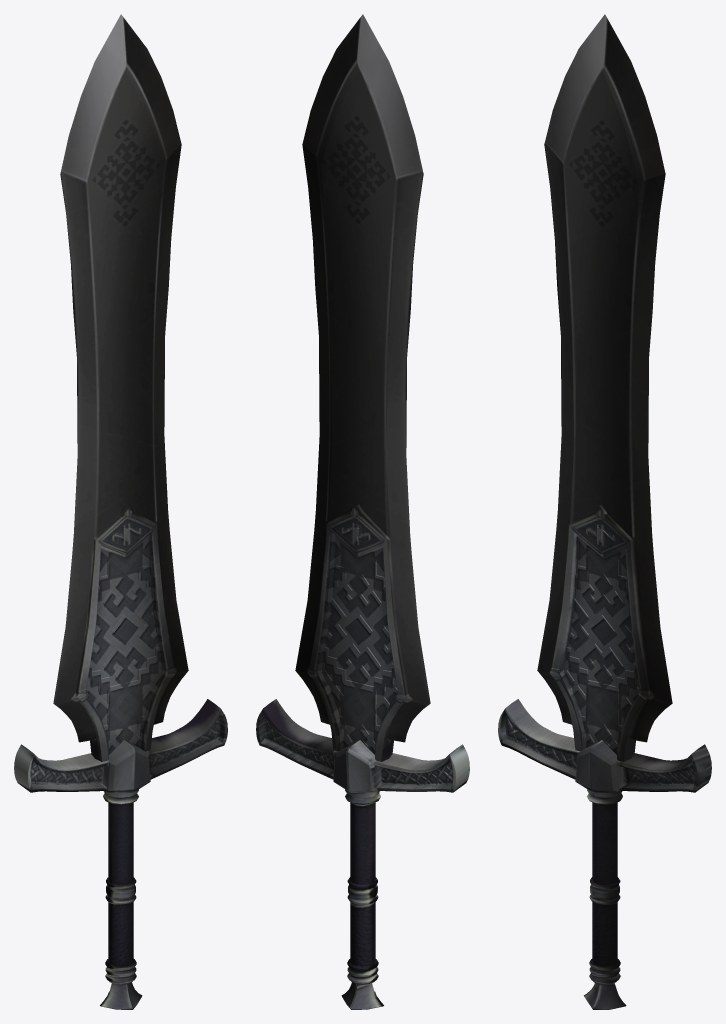
File: sm_sword_136.gltf
The picture shows the model from 3 angles, left to right: view 1: azimuth 30°, elevation 25°; view 2: azimuth 150°, elevation 25°; view 3: azimuth 330°, elevation 25°; orthographic projection.
Visible parts, largest first — view 1: sm_sword_136; view 2: sm_sword_136; view 3: sm_sword_136.
Part boxes in pixels (x1,y1,x2,y2): sm_sword_136: (14, 14, 227, 1009); sm_sword_136: (256, 14, 469, 1009); sm_sword_136: (498, 14, 711, 1009).
Size of the model in its own units: 0.322 by 1.53 by 0.0826.
Materials: 1 (1 with a texture image).
